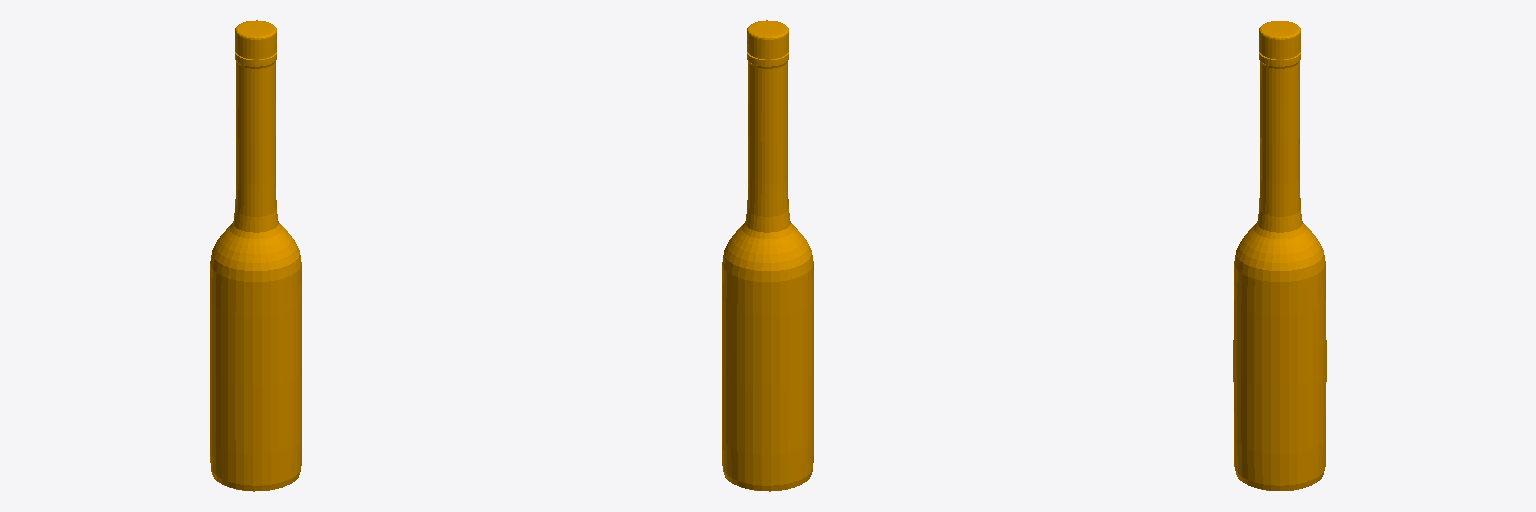
The robot description file, URDF, robot "wine_bottle":
<?xml version="1.0"?>
<robot name="wine_bottle">
  <link name="wine_bottle">
    <visual>
      <origin rpy="1.5708 0 0" xyz="0 0 -0.5"/>
      <geometry>
        <mesh filename="wine_bottle.obj" scale="1.2 1.2 1.2" />
      </geometry>
    </visual>

    <collision>
      <origin rpy="1.5708 0 0" xyz="0 0 -0.5"/>
      <geometry>
        <mesh filename="wine_bottle.obj" scale="1.2 1.2 1.2" />
      </geometry>
      <sdf resolution="128" />
    </collision>

    <inertial>
      <mass value="1.0" />
      <inertia
        ixx="0.01"
        ixy="0.0"
        ixz="0.0"
        iyy="0.01"
        iyz="0.0"
        izz="0.01" />
      <origin xyz="0 0 0" />
    </inertial>
  </link>

</robot>

--- Render facts (derived) ---
3 views of the same robot in one strip: view 1: azimuth 30°, elevation 25°; view 2: azimuth 150°, elevation 25°; view 3: azimuth 270°, elevation 25° (orthographic).
Model wine_bottle with 1 links and 0 joints (none), rooted at wine_bottle, posed all joints at 0.
Visible links, largest first — view 1: wine_bottle; view 2: wine_bottle; view 3: wine_bottle.
Link boxes in pixels (x1,y1,x2,y2): wine_bottle: (210,20,301,491); wine_bottle: (722,20,813,491); wine_bottle: (1233,21,1326,490).
Size in the robot's own frame: 0.0598 by 0.0598 by 0.3161 metres.
Meshes: 1 distinct files referenced, 1 mesh visuals loaded (1 OBJ).
